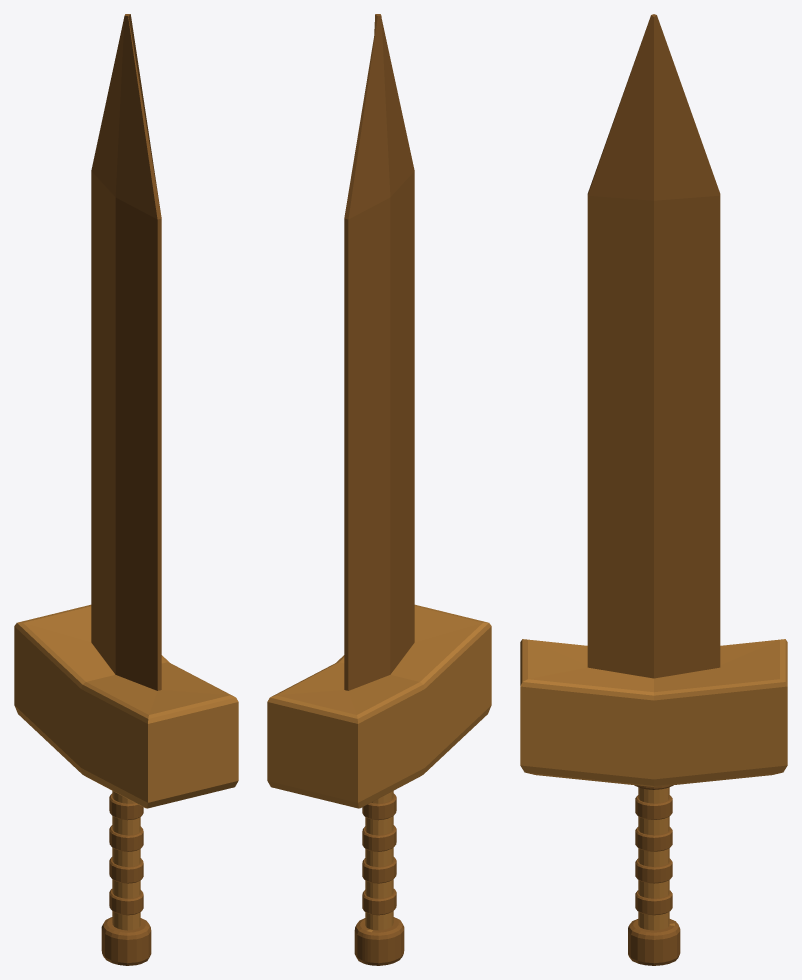
The model's file is KılıcLevel1.fbx.
The picture shows the model from 3 angles, left to right: view 1: azimuth 30°, elevation 25°; view 2: azimuth 150°, elevation 25°; view 3: azimuth 270°, elevation 25°; orthographic projection.
Parts seen in each view (by area): view 1: KılıcLevel1; view 2: KılıcLevel1; view 3: KılıcLevel1.
Boxes of the visible parts, <box> form: KılıcLevel1: <box>14,14,238,965</box>; KılıcLevel1: <box>267,14,491,965</box>; KılıcLevel1: <box>520,14,787,965</box>.
Size of the model in its own units: 20 by 198 by 51.02.
